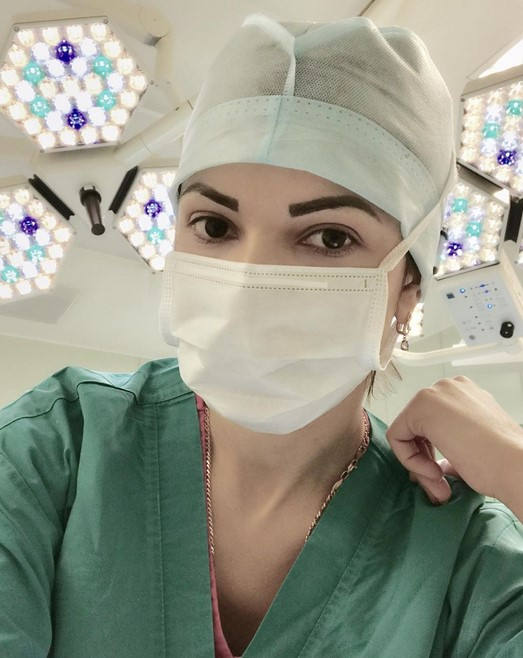face_with_mask: (162, 18, 462, 435)
